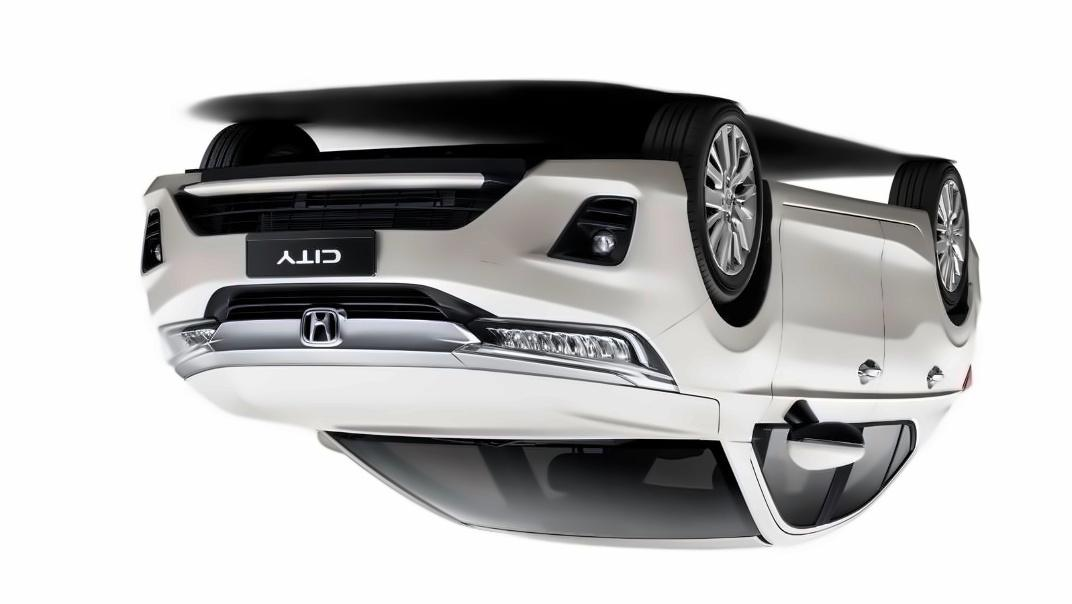Car hood: (164, 344, 719, 449)
Driver-s door - -F-R-: (744, 197, 888, 565)
Fender - -F-R-: (656, 234, 797, 440)
Fender - -R-R-: (907, 241, 1004, 416)
Front bumper: (135, 152, 717, 351)
Headlight - -L-: (157, 318, 222, 382)
Headlight - -R-: (453, 310, 682, 406)
Passenger-s door - -R-R-: (870, 213, 951, 529)
Side bumper - -R-: (762, 171, 942, 255)
Side mirror - -R-: (786, 418, 867, 475)
